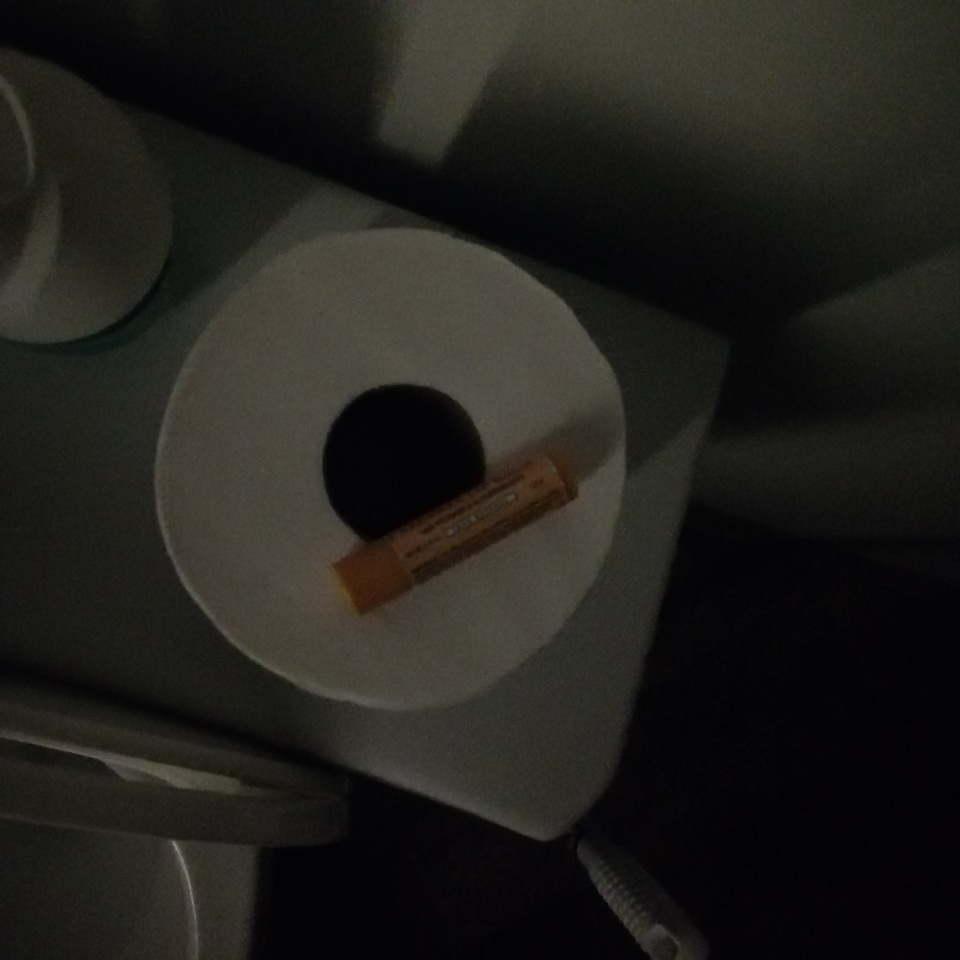chapstick: (331, 445, 580, 619)
